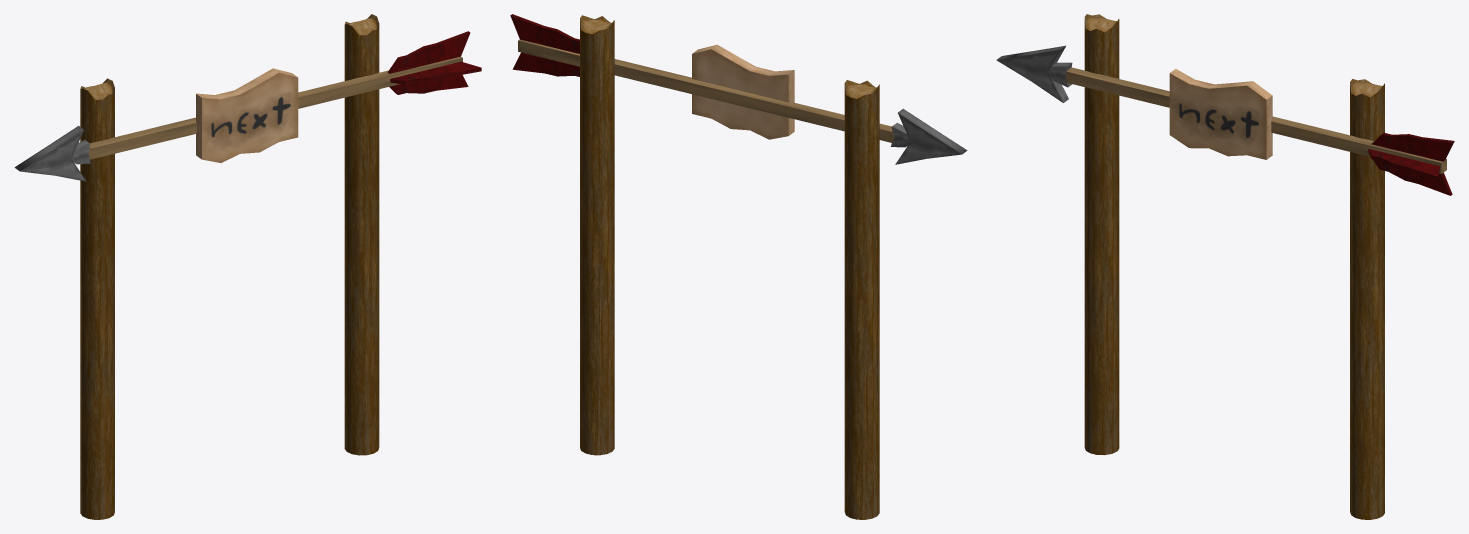
The model's file is Finish sign.fbx.
The picture shows the model from 3 angles, left to right: view 1: azimuth 30°, elevation 25°; view 2: azimuth 150°, elevation 25°; view 3: azimuth 330°, elevation 25°; orthographic projection.
Visible parts, largest first — view 1: pCylinder4, pCylinder3, pCube7, pCube1, pCube3, pCube4, pCube8, pCube9; view 2: pCylinder3, pCylinder4, pCube7, pCube1, pCube3, pCube4, pCube9; view 3: pCylinder3, pCylinder4, pCube7, pCube1, pCube3, pCube4, pCube8, pCube9.
Boxes of the visible parts, bbox=[...] form: pCylinder4: bbox=[344, 14, 379, 455]; pCylinder3: bbox=[80, 78, 114, 519]; pCube7: bbox=[196, 68, 298, 162]; pCube1: bbox=[88, 56, 462, 159]; pCube3: bbox=[14, 125, 86, 181]; pCube4: bbox=[387, 31, 470, 73]; pCube8: bbox=[390, 61, 481, 84]; pCube9: bbox=[389, 75, 468, 94]; pCylinder3: bbox=[844, 80, 879, 519]; pCylinder4: bbox=[580, 15, 614, 455]; pCube7: bbox=[692, 44, 794, 139]; pCube1: bbox=[518, 39, 894, 142]; pCube3: bbox=[895, 108, 967, 164]; pCube4: bbox=[510, 14, 579, 53]; pCube9: bbox=[512, 52, 579, 76]; pCylinder3: bbox=[1084, 14, 1119, 455]; pCylinder4: bbox=[1350, 79, 1384, 519]; pCube7: bbox=[1169, 69, 1272, 159]; pCube1: bbox=[1065, 67, 1446, 173]; pCube3: bbox=[996, 45, 1068, 102]; pCube4: bbox=[1371, 132, 1454, 161]; pCube8: bbox=[1368, 148, 1439, 180]; pCube9: bbox=[1373, 160, 1452, 195].
Size of the model in its own units: 14.16 by 12.81 by 1.82.
Materials: 6 (6 with a texture image).
